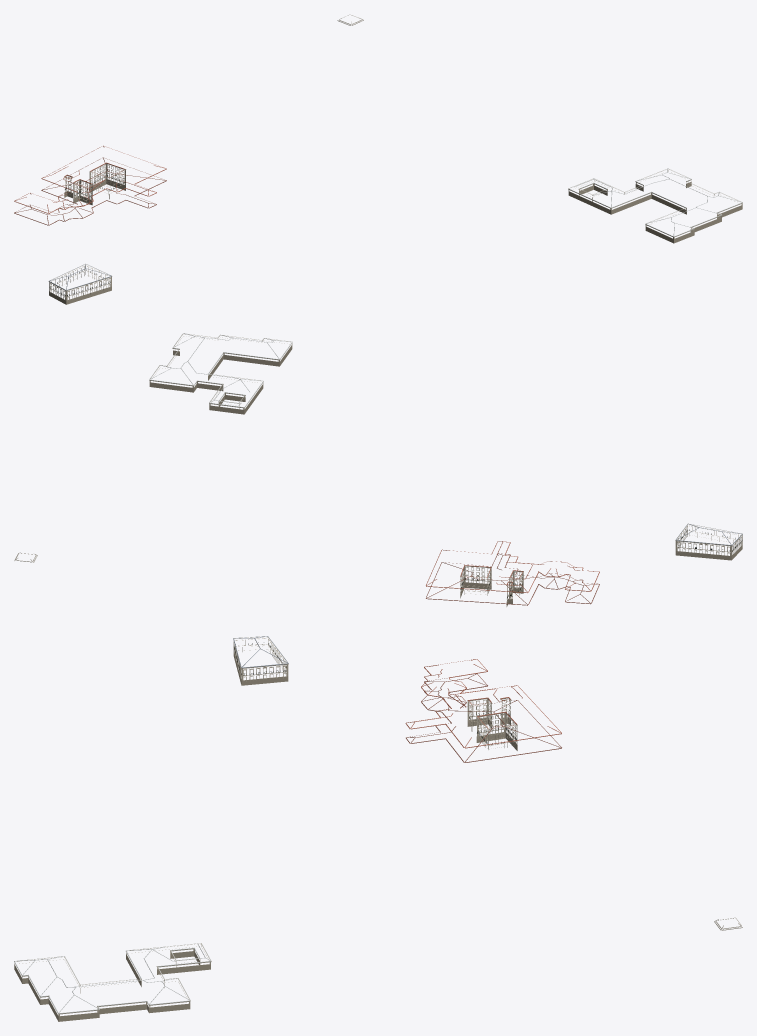
3 views of the same model, one above another, from view 1: azimuth 30°, elevation 25°; view 2: azimuth 150°, elevation 25°; view 3: azimuth 270°, elevation 25° (orthographic). The views are drawn at different scales.
Visible parts, largest first — view 1: detail; view 2: detail; view 3: detail.
Boxes of the visible parts, x1=… form: detail: x1=14, y1=14, x2=742, y2=304; detail: x1=14, y1=333, x2=742, y2=606; detail: x1=14, y1=636, x2=742, y2=1021.
Size of the model in its own units: 405 by 16.1 by 339.
